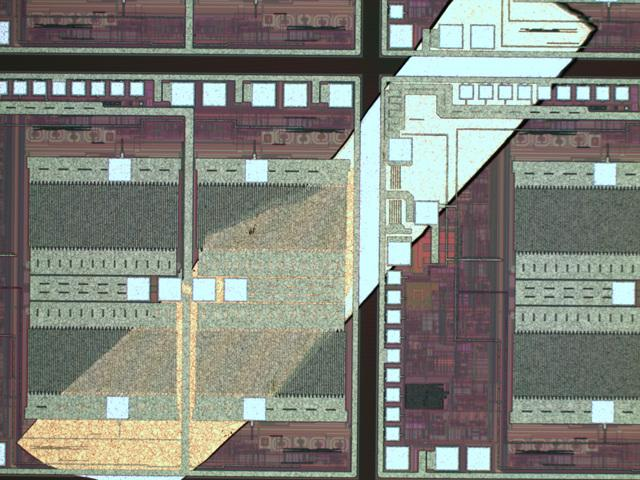BLOCK ETCH: (12, 1, 608, 480)
